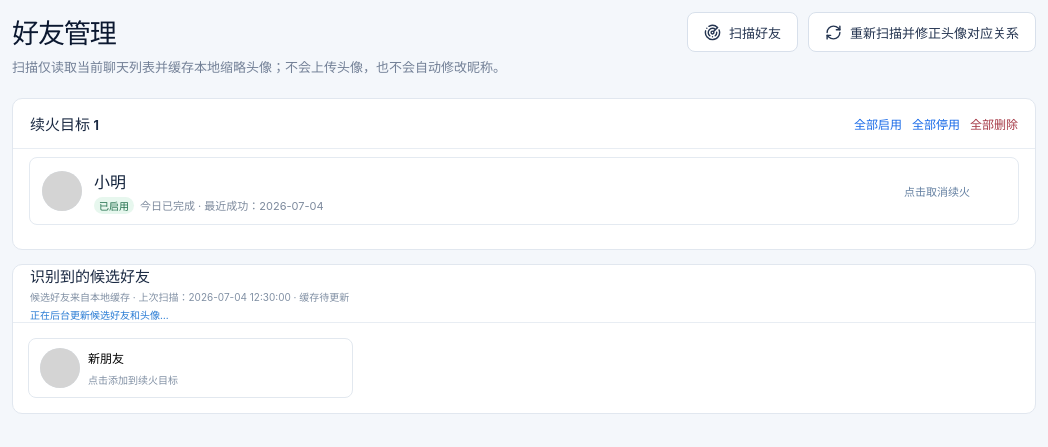
Scenario: shows local avatars, adds a discovered friend on click, and removes candidate checkboxes
Expected: the text "已启用 今日已完成 · 最近成功：2026-07-04" is shown, [94,196,324,214]
Expected: the text "候选好友来自本地缓存 · 上次扫描：2026-07-04 12:30:00 · 缓存待更新" is shown, [30,289,349,304]
Click the button with aria-label "添加 新朋友" at point(60, 368), box [28,338,353,398]
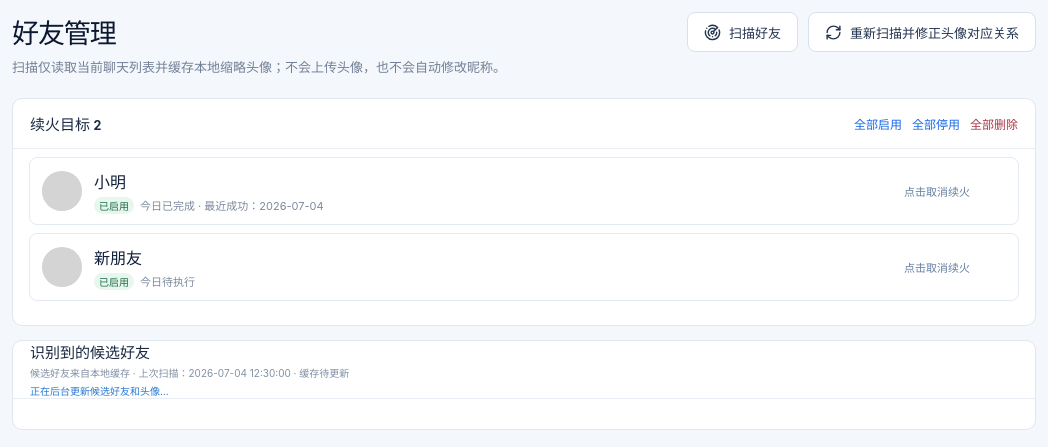
Expected: the button "取消续火 新朋友" is shown, [29,233,1019,301]
